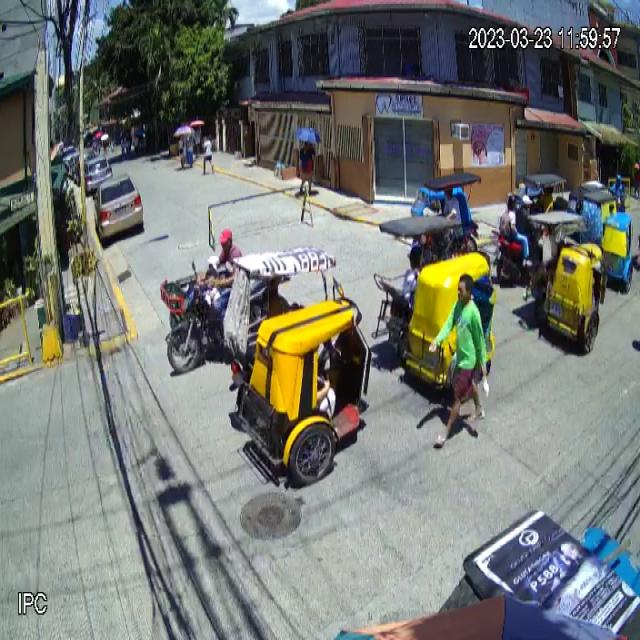Car: (92, 174, 144, 240)
Tricycle: (226, 241, 370, 478), (373, 214, 498, 388), (531, 200, 612, 357), (496, 210, 499, 212)
